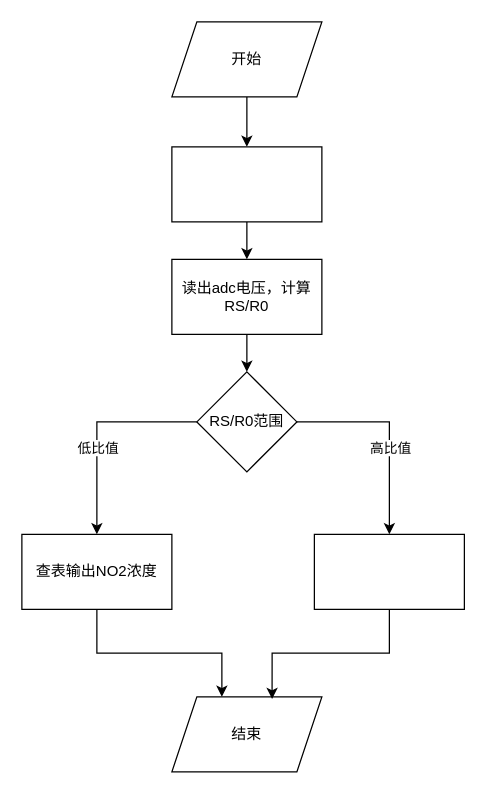
This 486x794 diagram has some shape labels left out. Each missing label, with the box of its shape:
adc初始化: (171, 146, 322, 222)
按照execl的拟合曲线计算NO2浓度: (313, 533, 464, 609)
